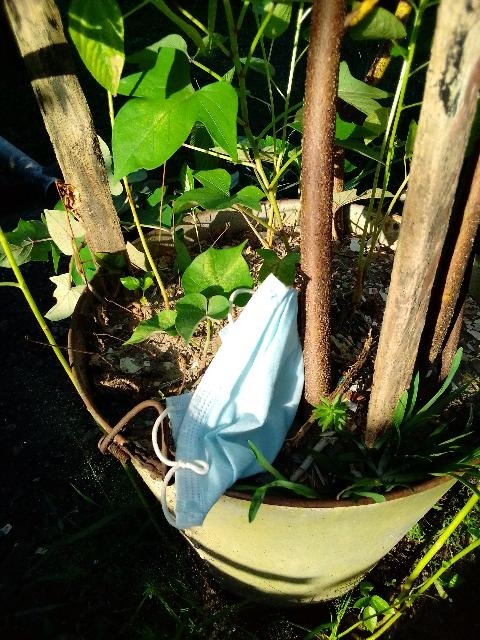mask: (148, 250, 314, 543)
